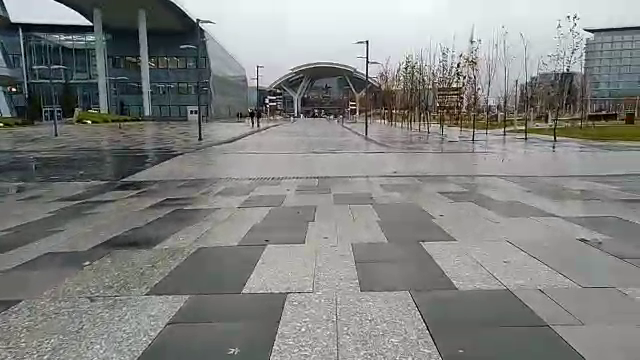mega: (263, 59, 385, 130)
